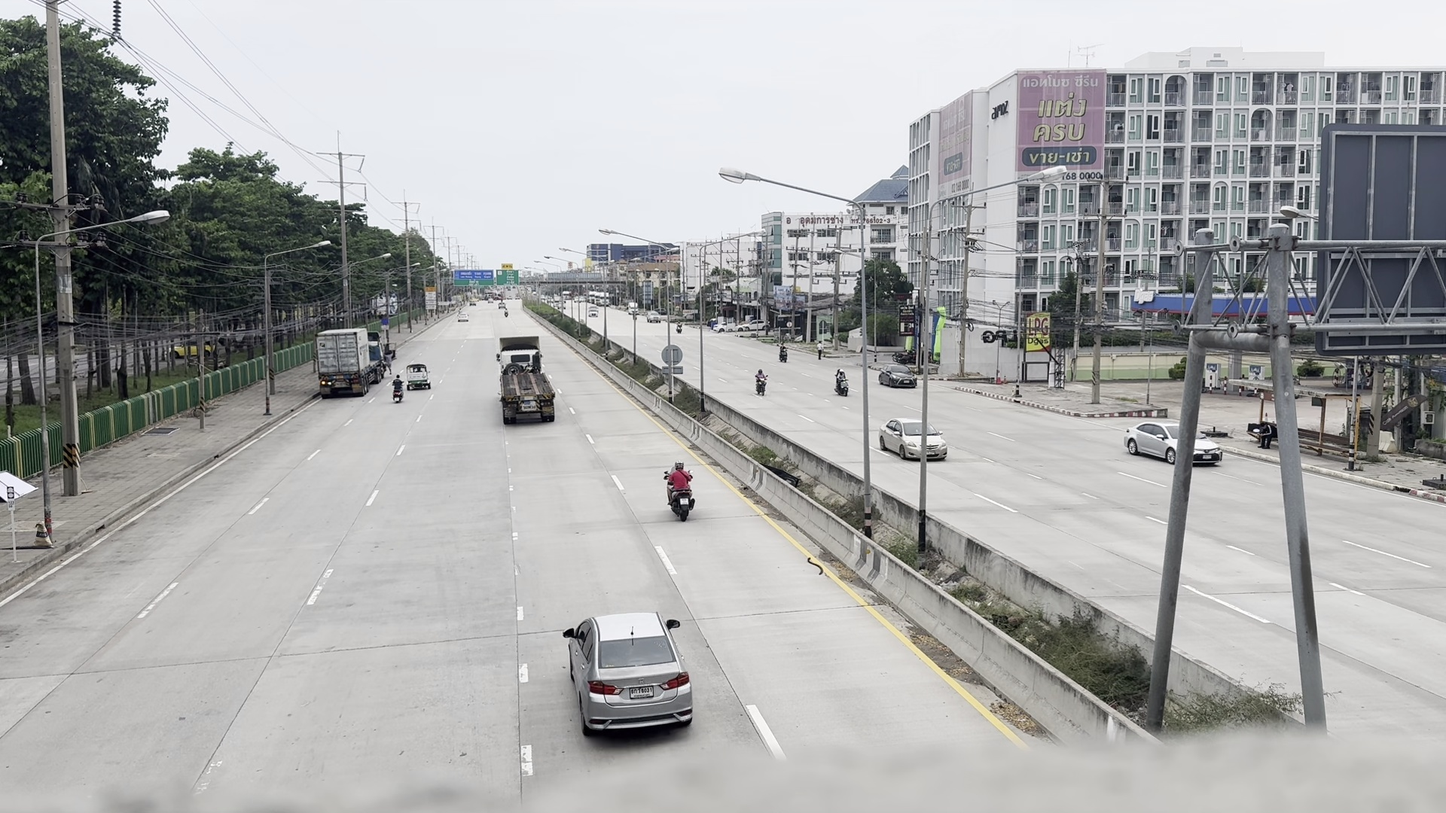bus: (498, 333, 557, 425), (315, 327, 374, 395)
car: (563, 612, 693, 736), (1127, 420, 1224, 466), (879, 417, 946, 459), (1127, 420, 1173, 460), (393, 361, 431, 399), (879, 363, 920, 389), (402, 362, 431, 393), (1245, 420, 1277, 448)
motorbike: (663, 454, 695, 521)
truck: (498, 336, 556, 425), (314, 326, 376, 397)
